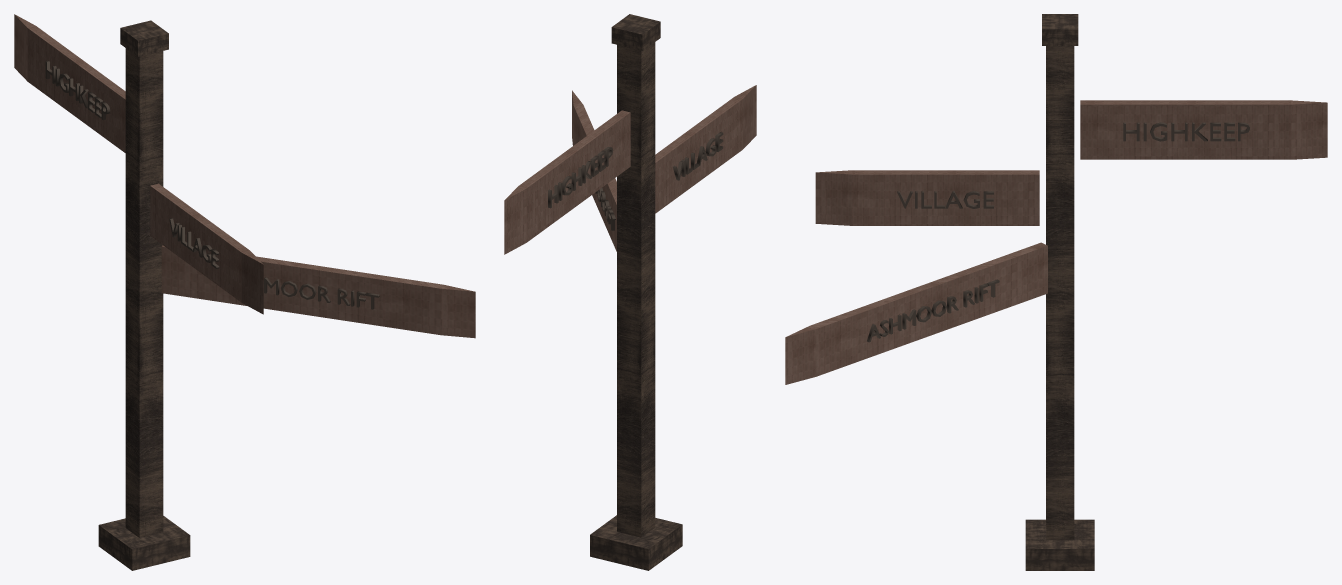
Rendered from prop_signpost_kingsroad.glb.
3 views of the same model, side by side, from view 1: azimuth 30°, elevation 25°; view 2: azimuth 150°, elevation 25°; view 3: azimuth 270°, elevation 25° (orthographic). The views are drawn at different scales.
Visible parts, largest first — view 1: prop_signpost_kingsroad; view 2: prop_signpost_kingsroad; view 3: prop_signpost_kingsroad.
Boxes of the visible parts, x1,y1,x2,y2 form: prop_signpost_kingsroad: (14,14,475,570); prop_signpost_kingsroad: (504,14,756,570); prop_signpost_kingsroad: (785,14,1327,570).
Size of the model in its own units: 1.32 by 2.91 by 2.68.
3 materials, 2 textured.
